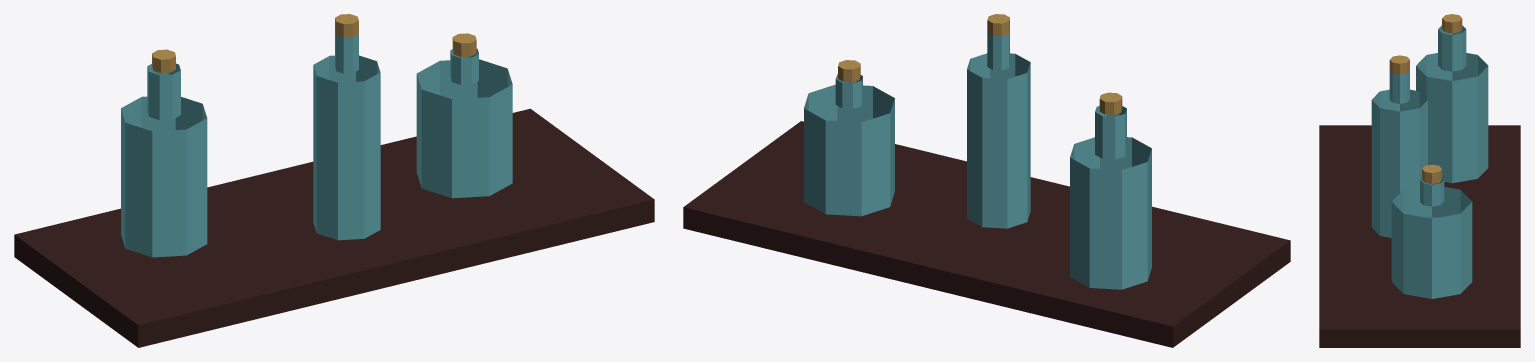
The model's file is bottle_set.obj.
3 views of the same model, side by side, from view 1: azimuth 30°, elevation 25°; view 2: azimuth 150°, elevation 25°; view 3: azimuth 270°, elevation 25° (orthographic). The views are drawn at different scales.
Bounding box in the file's own units: 1.2 × 0.51 × 0.5.
